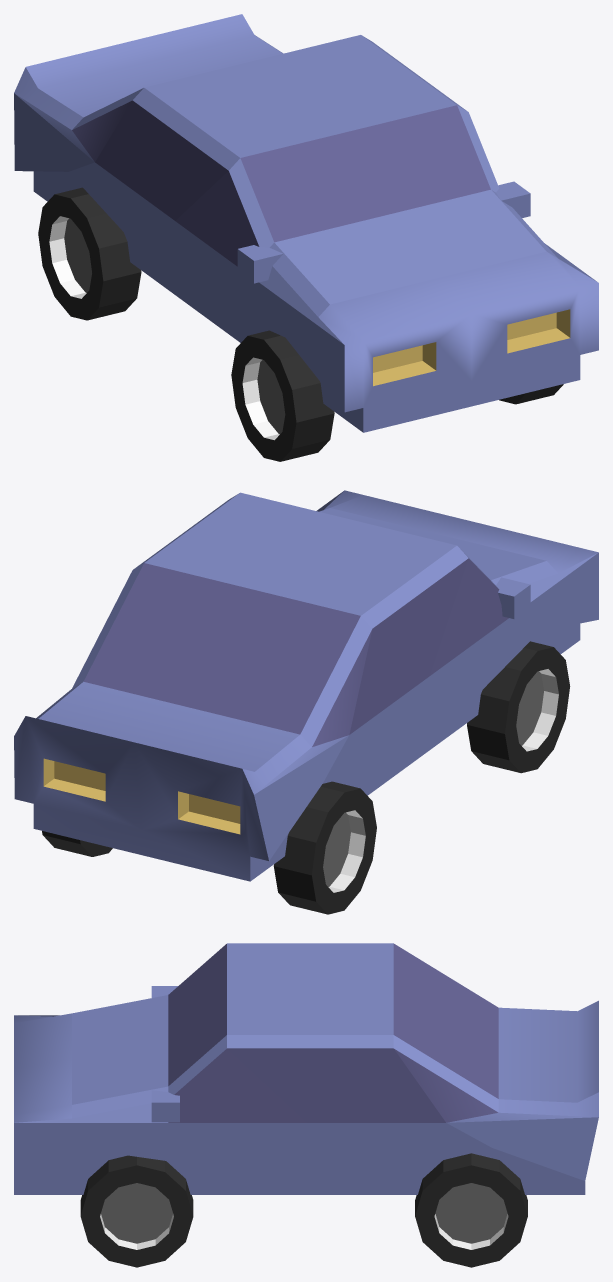
The model's file is car2.fbx.
The picture shows the model from 3 angles, top to bottom: view 1: azimuth 30°, elevation 25°; view 2: azimuth 150°, elevation 25°; view 3: azimuth 270°, elevation 25°; orthographic projection. The views are drawn at different scales.
Visible parts, largest first — view 1: Car2; view 2: Car2; view 3: Car2.
Part boxes in pixels (x1,y1,x2,y2): Car2: (14,14,598,461); Car2: (14,490,598,914); Car2: (14,943,598,1267).
Size of the model in its own units: 42.33 by 37.28 by 89.55.
